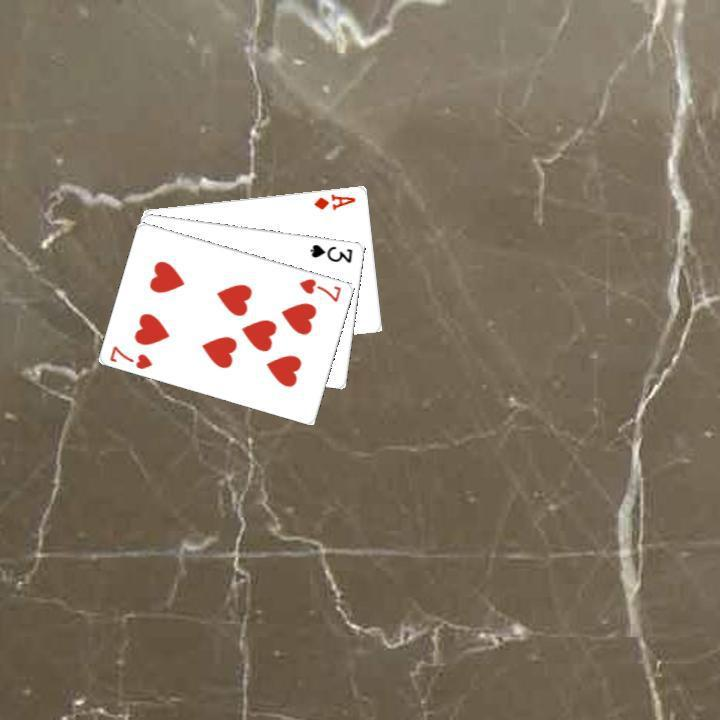3: (306, 239, 355, 265)
7: (105, 341, 155, 371), (295, 274, 344, 304)
A: (310, 189, 358, 212)
